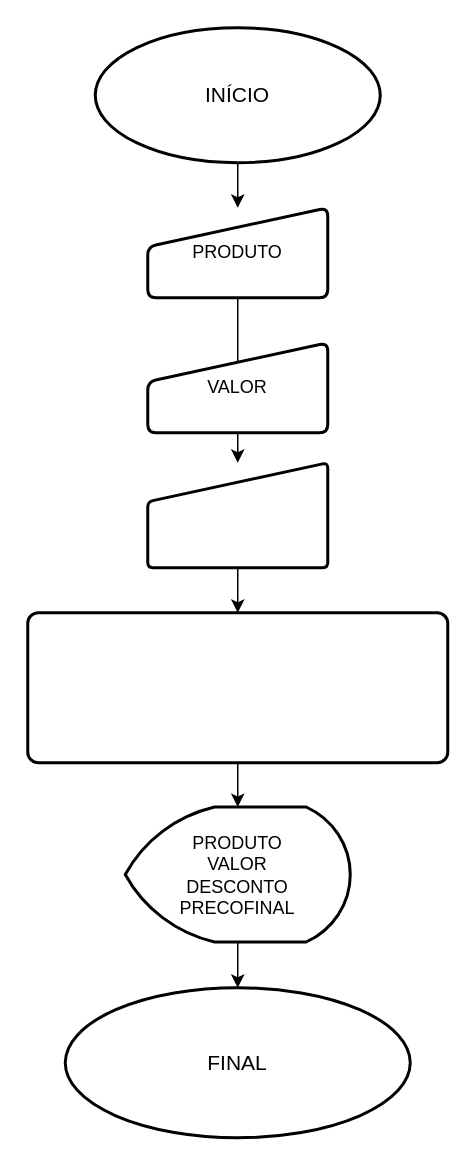
Some shapes in this 474 by 1164 pixel diagram are drawn without their labels. Each missing label, with the centre of its shape:
"DESCONTO" goes at (237,514).
"PRODUTO = VALOR - DESCONTO" goes at (237,687).
